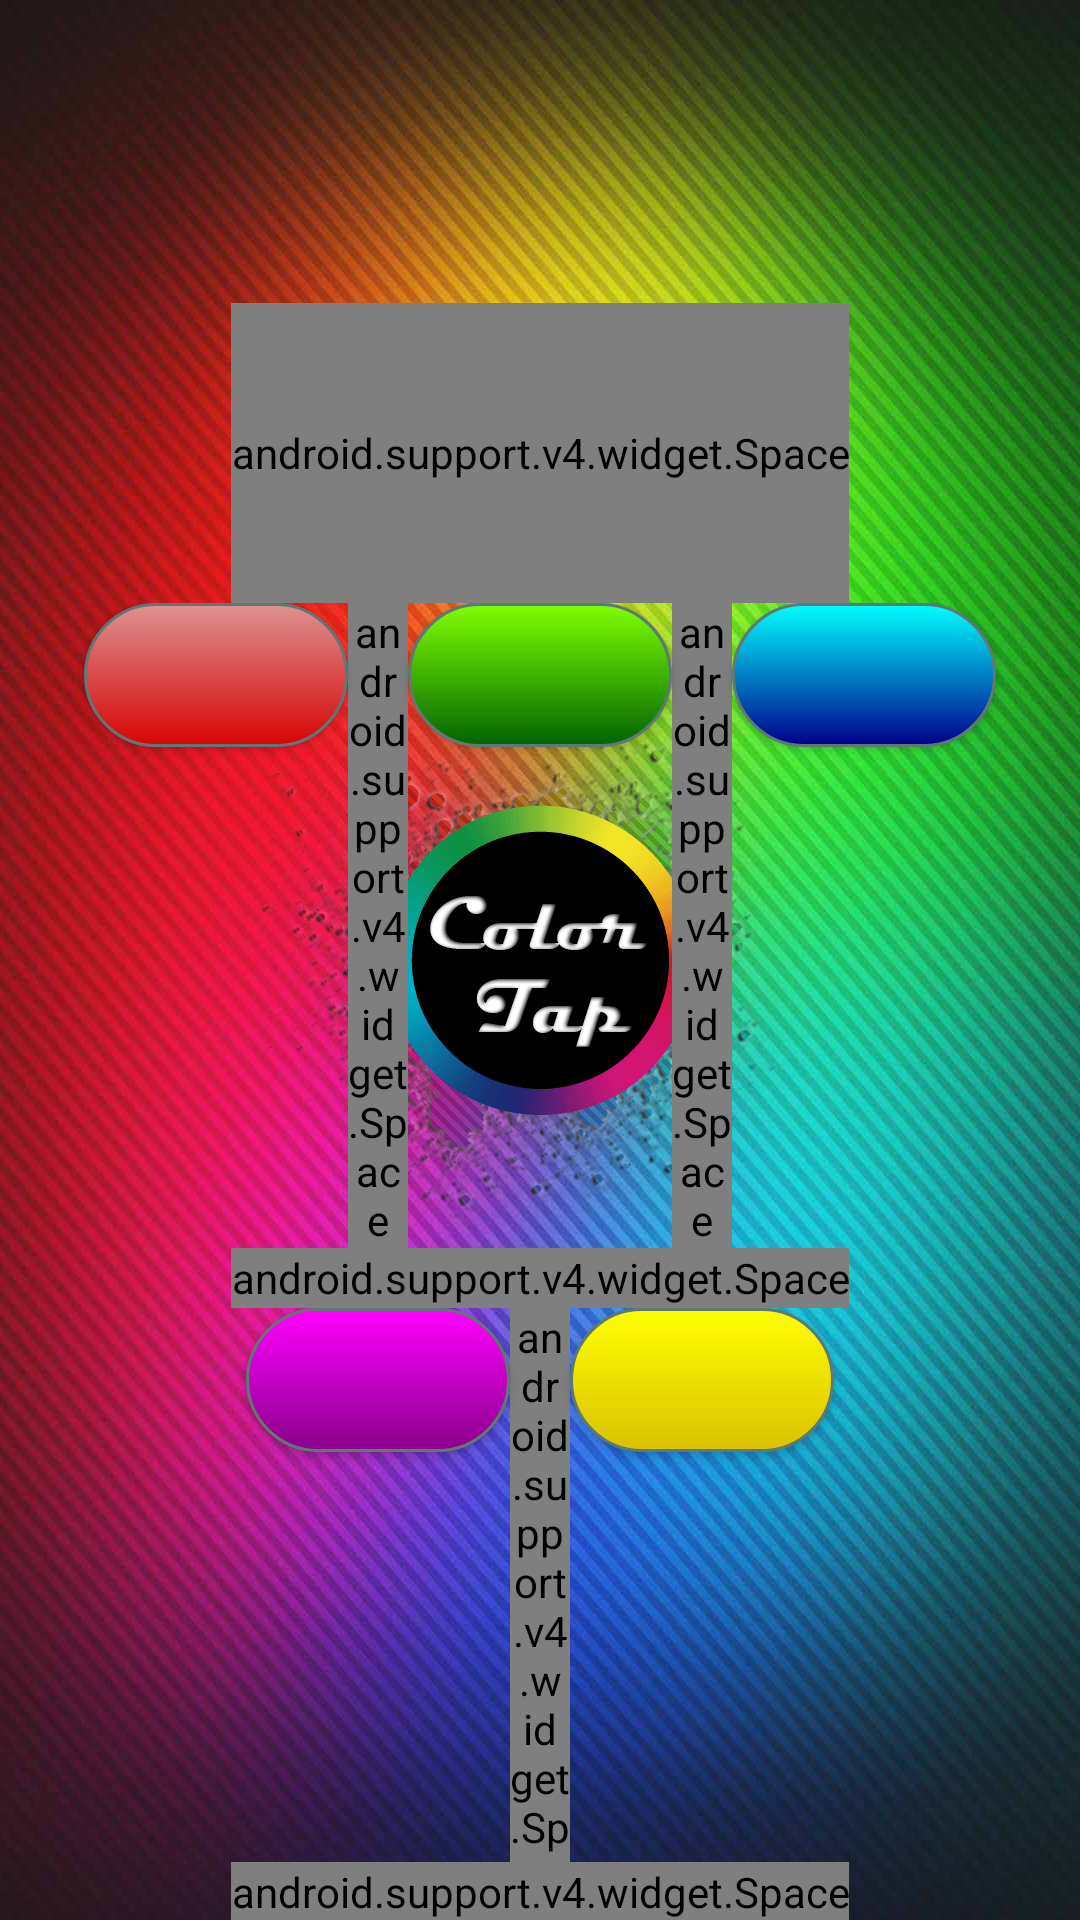

Point at icon controls on the screen. Image size 1080px x 1920px, points as [x,y].
buttonblue: [864,675]
buttongreen: [540,675]
buttonpurple: [378,1380]
buttonred: [216,675]
buttonyellow: [702,1380]
